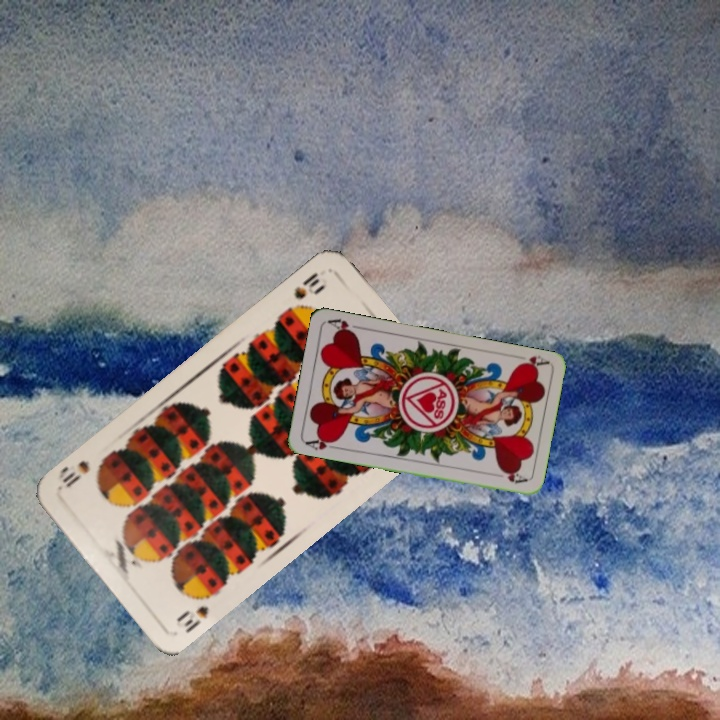HA: (302, 433, 342, 453), (514, 352, 550, 371)
S10: (172, 587, 218, 636), (289, 268, 330, 302)
